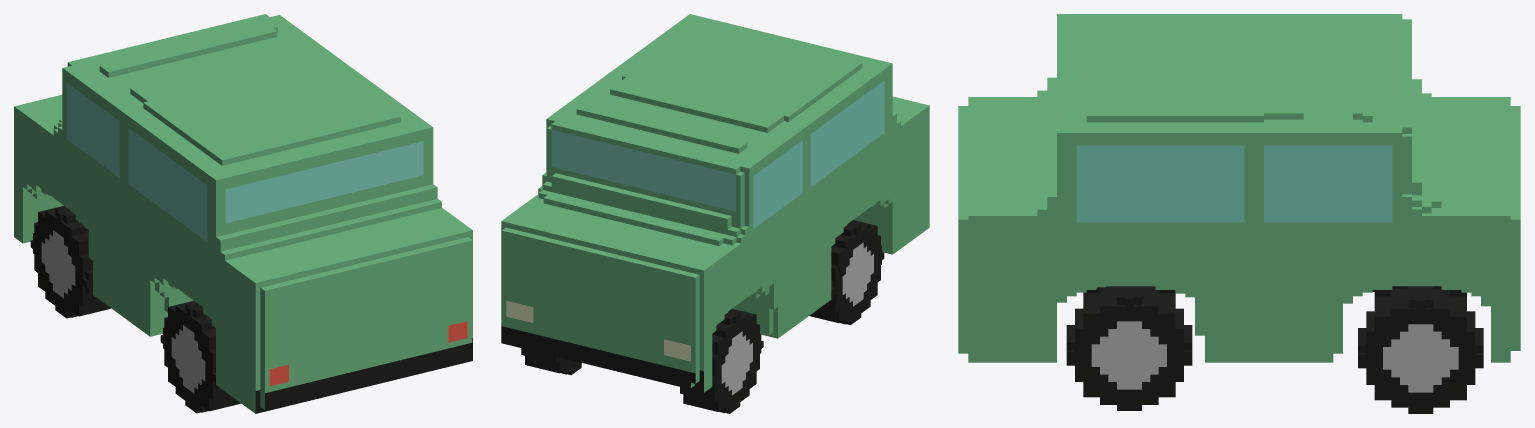
The model's file is vehicle c.fbx.
3 renders of one model, left to right at view 1: azimuth 30°, elevation 25°; view 2: azimuth 150°, elevation 25°; view 3: azimuth 270°, elevation 25°, orthographic. The views are drawn at different scales.
Visible parts, largest first — view 1: vehicle Bwheels; view 2: vehicle Bwheels; view 3: vehicle Bwheels.
Boxes of the visible parts, bbox=[...] form: vehicle Bwheels: bbox=[14, 14, 472, 413]; vehicle Bwheels: bbox=[501, 14, 929, 413]; vehicle Bwheels: bbox=[958, 14, 1520, 413].
Size of the model in its own units: 86.71 by 99.17 by 173.
